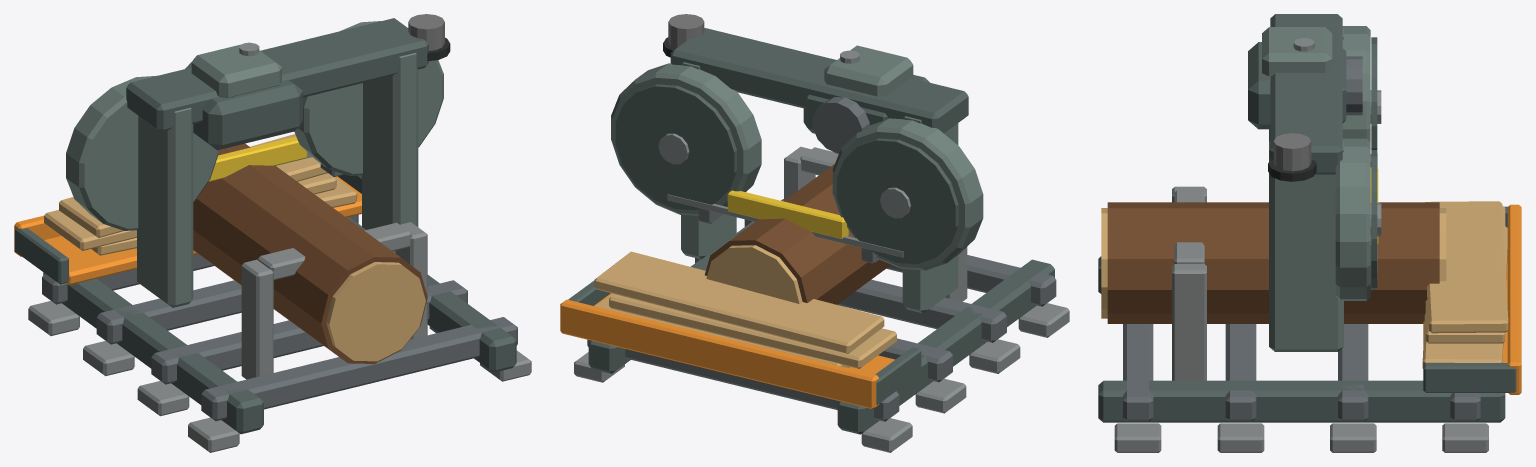
File: sawmill.glb
3 renders of one model, left to right at view 1: azimuth 30°, elevation 25°; view 2: azimuth 150°, elevation 25°; view 3: azimuth 270°, elevation 25°, orthographic. The views are drawn at different scales.
Visible parts, largest first — view 1: sawmill, Lamp; view 2: sawmill, Lamp; view 3: sawmill, Lamp.
Part boxes in pixels (x1,y1,x2,y2): sawmill: (14, 18, 531, 452); Lamp: (408, 14, 444, 50); sawmill: (560, 28, 1069, 452); Lamp: (668, 14, 704, 48); sawmill: (1098, 14, 1521, 452); Lamp: (1273, 133, 1311, 171).
Size of the model in its own units: 1.85 by 1.49 by 1.81.
